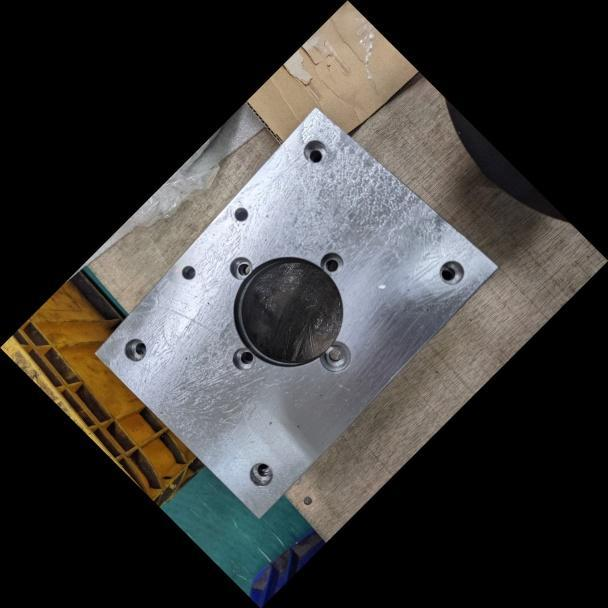hole: (308, 329, 363, 385), (236, 450, 284, 499), (292, 127, 338, 173), (216, 244, 262, 290), (308, 239, 353, 285), (223, 335, 268, 380), (428, 250, 472, 294), (113, 329, 154, 370), (223, 196, 257, 230), (172, 257, 203, 288)
